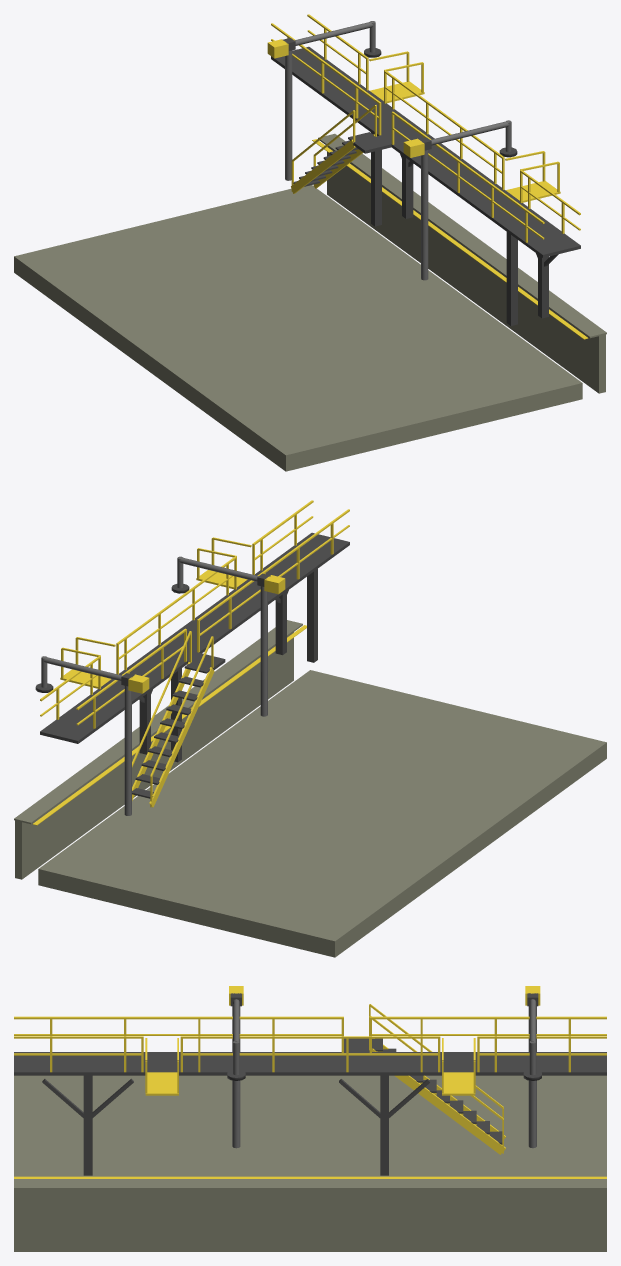
The model's file is platform.fbx.
3 views of the same model, one above another, from view 1: azimuth 30°, elevation 25°; view 2: azimuth 150°, elevation 25°; view 3: azimuth 270°, elevation 25° (orthographic). The views are drawn at different scales.
Visible parts, largest first — view 1: p465_platform; view 2: p465_platform; view 3: p465_platform.
Boxes of the visible parts, <box> form: p465_platform: <box>14,14,606,471</box>; p465_platform: <box>14,500,606,957</box>; p465_platform: <box>14,986,606,1251</box>.
Size of the model in its own units: 11.38 by 6.43 by 16.
